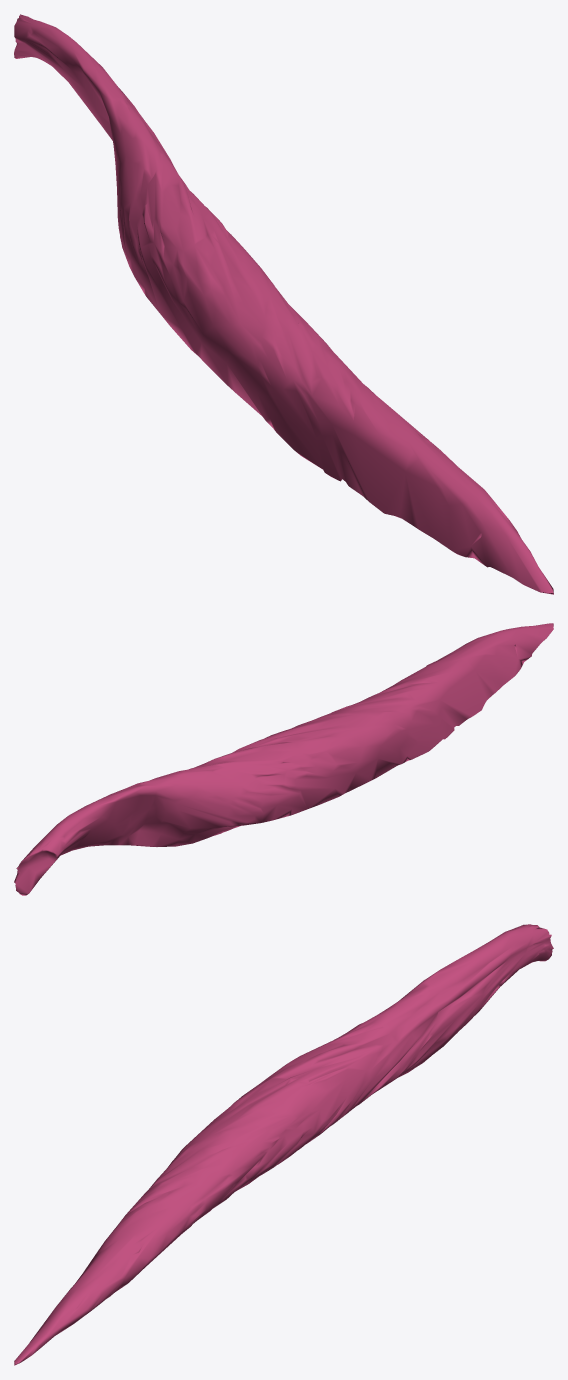
3 views of the same model, one above another, from view 1: azimuth 30°, elevation 25°; view 2: azimuth 150°, elevation 25°; view 3: azimuth 330°, elevation 25° (orthographic). The views are drawn at different scales.
Visible parts, largest first — view 1: 左侧股二头肌短头; view 2: 左侧股二头肌短头; view 3: 左侧股二头肌短头.
Part boxes in pixels (left/top/right/bottom): 左侧股二头肌短头: left=14, top=14, right=553, bottom=594; 左侧股二头肌短头: left=14, top=623, right=553, bottom=895; 左侧股二头肌短头: left=14, top=924, right=553, bottom=1365.
Size of the model in its own units: 0.0543 by 0.0617 by 0.444.
